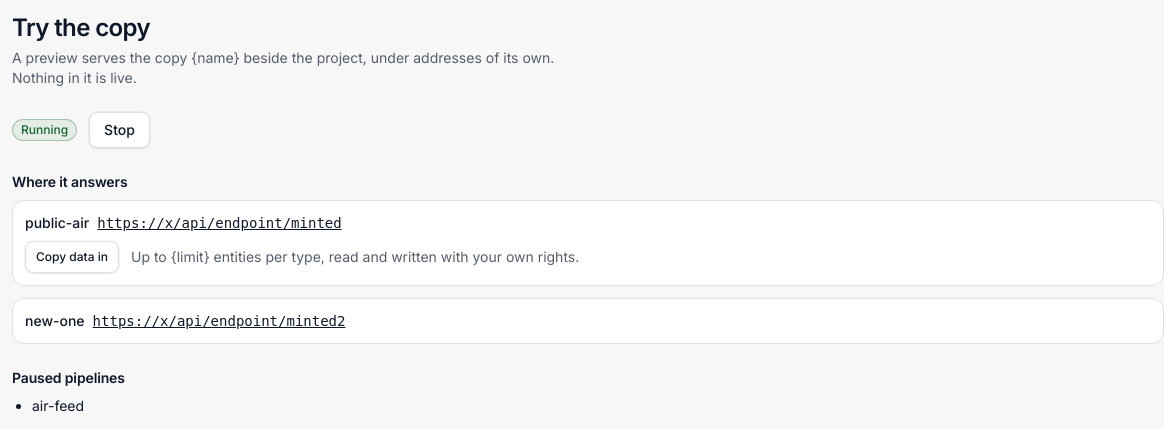
it: try it › stops a running preview
Click the button "Stop".
click(120, 130)  # box [89,112,150,148]
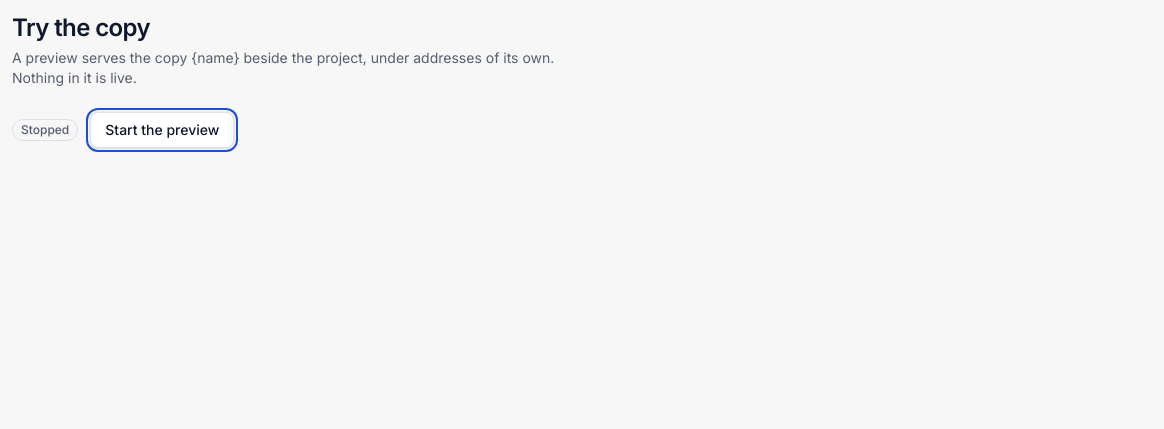
Now the text with test id "preview-state" reads "Stopped", box [21,122,69,137]
